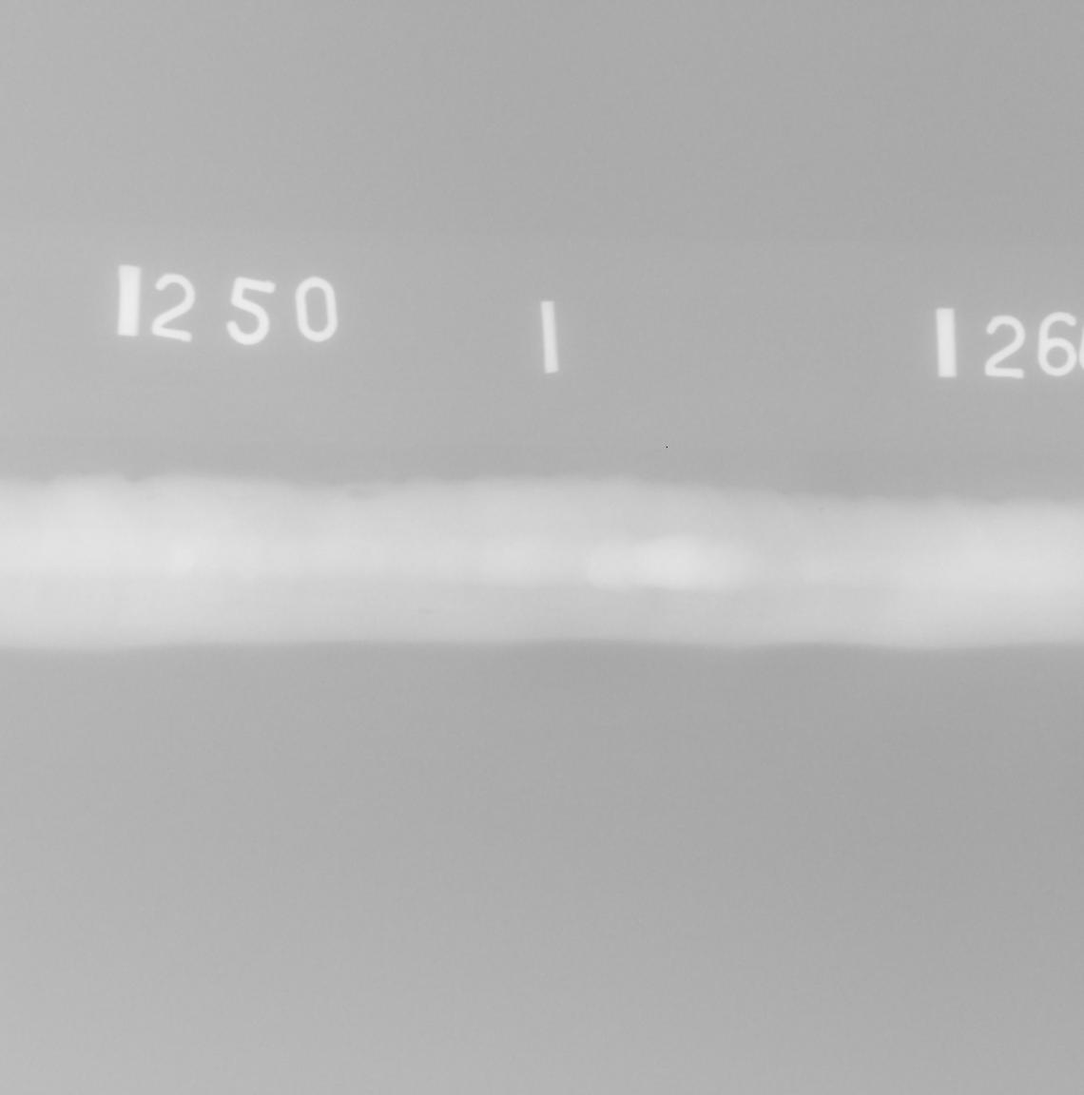Inclusion: (218, 493, 266, 501), (419, 606, 434, 617), (147, 495, 163, 503), (752, 613, 773, 619), (659, 609, 683, 614), (585, 606, 609, 611), (547, 608, 562, 613)
Pore/Porosity: (347, 487, 382, 502), (820, 507, 826, 513)
